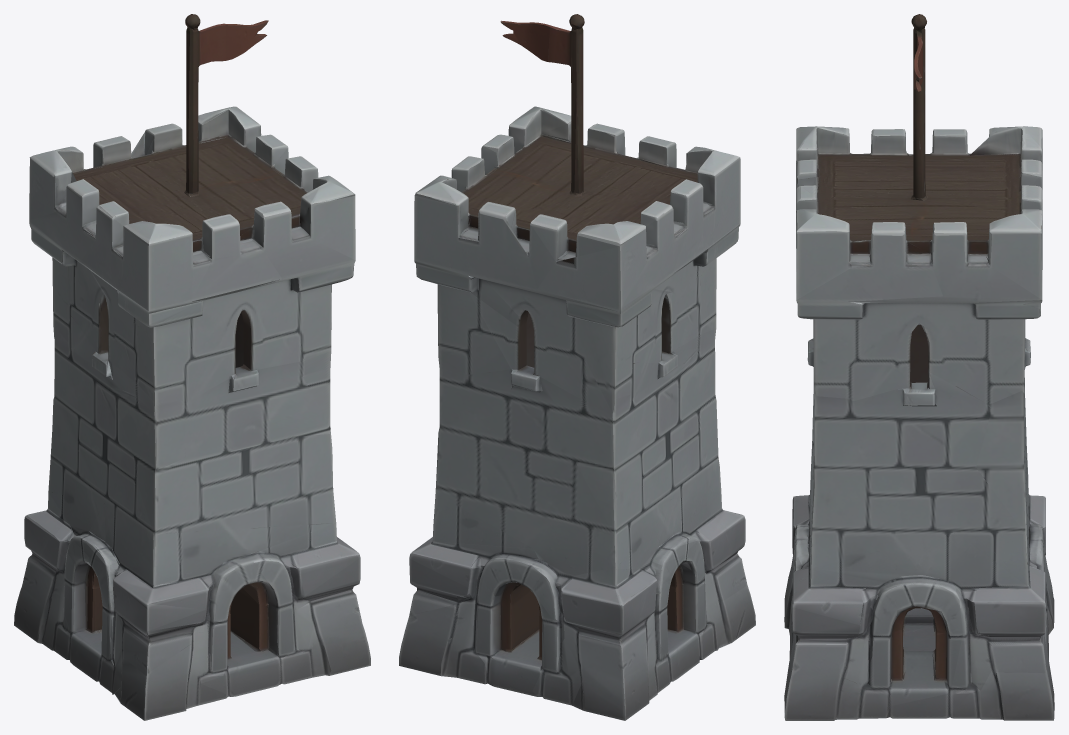
File: watchtower.glb
3 views of the same model, side by side, from view 1: azimuth 30°, elevation 25°; view 2: azimuth 150°, elevation 25°; view 3: azimuth 270°, elevation 25° (orthographic). The views are drawn at different scales.
Visible parts, largest first — view 1: watchtower; view 2: watchtower; view 3: watchtower.
Part boxes in pixels (bbox=[...]): watchtower: bbox=[14, 14, 370, 720]; watchtower: bbox=[399, 14, 755, 720]; watchtower: bbox=[784, 14, 1054, 720].
Bounding box in the file's own units: 4.9 × 13 × 4.9.
1 material, 1 textured.
